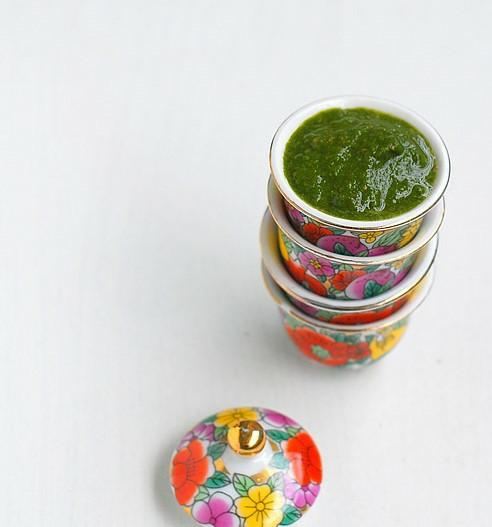GreenChutney: (284, 106, 436, 220)
